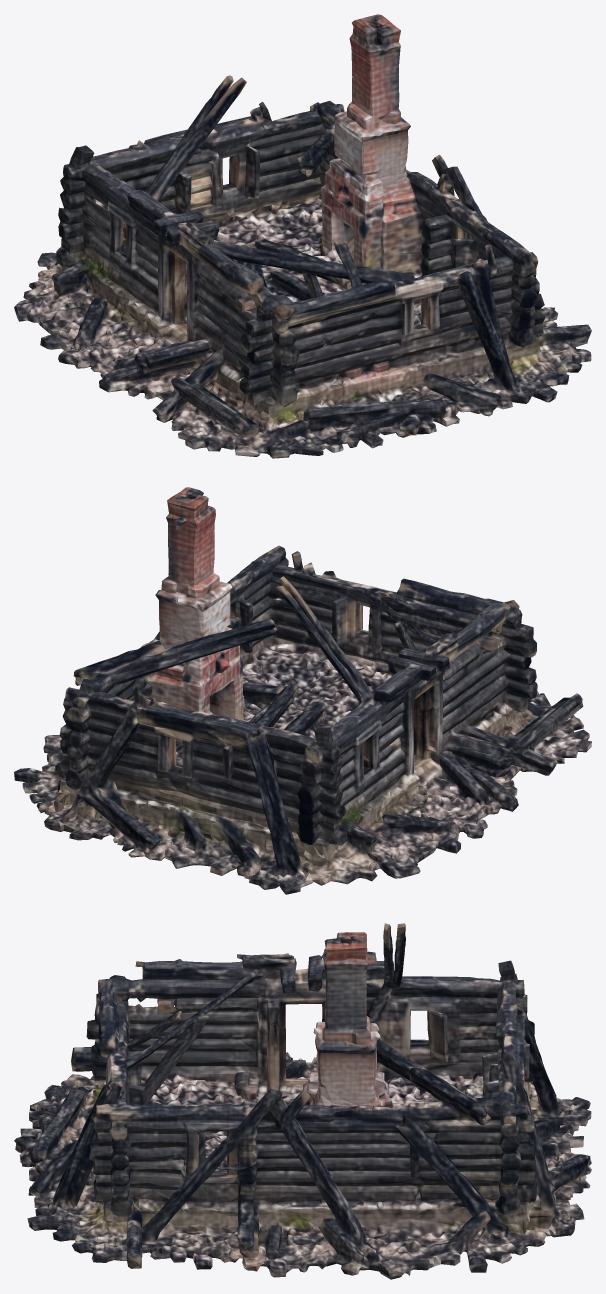
Rendered from k_izba_ruin.obj.
3 renders of one model, top to bottom at view 1: azimuth 30°, elevation 25°; view 2: azimuth 150°, elevation 25°; view 3: azimuth 270°, elevation 25°, orthographic. The views are drawn at different scales.
Parts seen in each view (by area): view 1: k_izba_ruin; view 2: k_izba_ruin; view 3: k_izba_ruin.
Boxes of the visible parts, x1,y1,x2,y2 form: k_izba_ruin: (14, 14, 591, 458); k_izba_ruin: (14, 487, 591, 894); k_izba_ruin: (14, 923, 591, 1279).
Size of the model in its own units: 10.1 by 6 by 11.26.
1 material, 1 textured.
